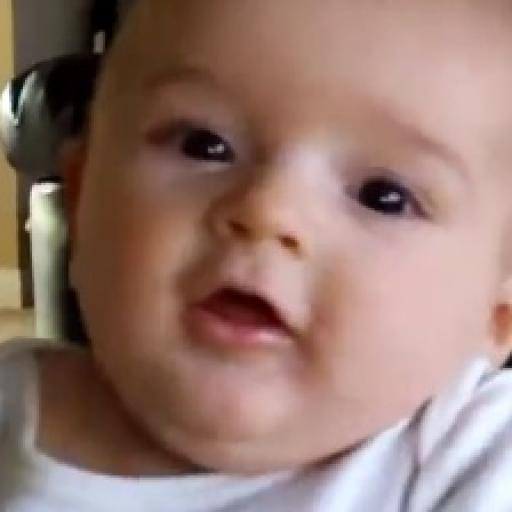Autism: (116, 0, 502, 476)
